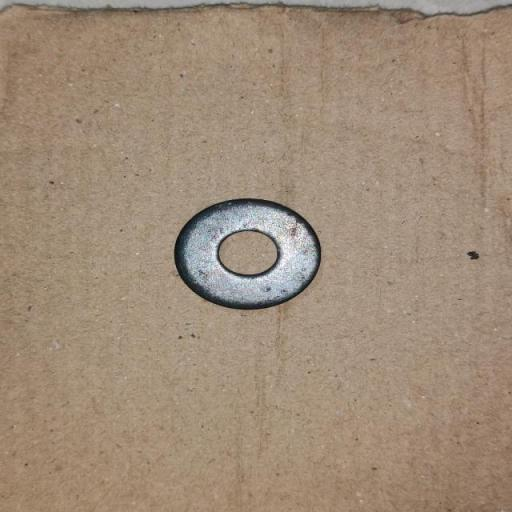Washer: (174, 198, 322, 310)
